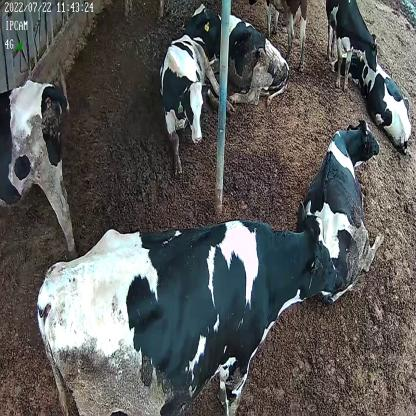cow: (34, 191, 342, 416), (298, 117, 388, 305), (180, 3, 290, 110), (160, 36, 233, 174), (333, 51, 413, 155), (322, 0, 379, 91)
